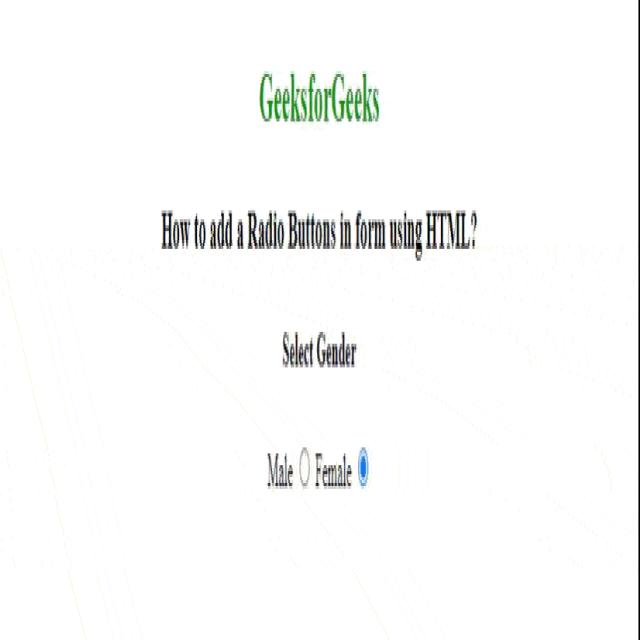radio: (317, 443, 370, 496), (266, 442, 310, 492)
text: (162, 203, 479, 265), (258, 67, 380, 141), (280, 329, 356, 378)
